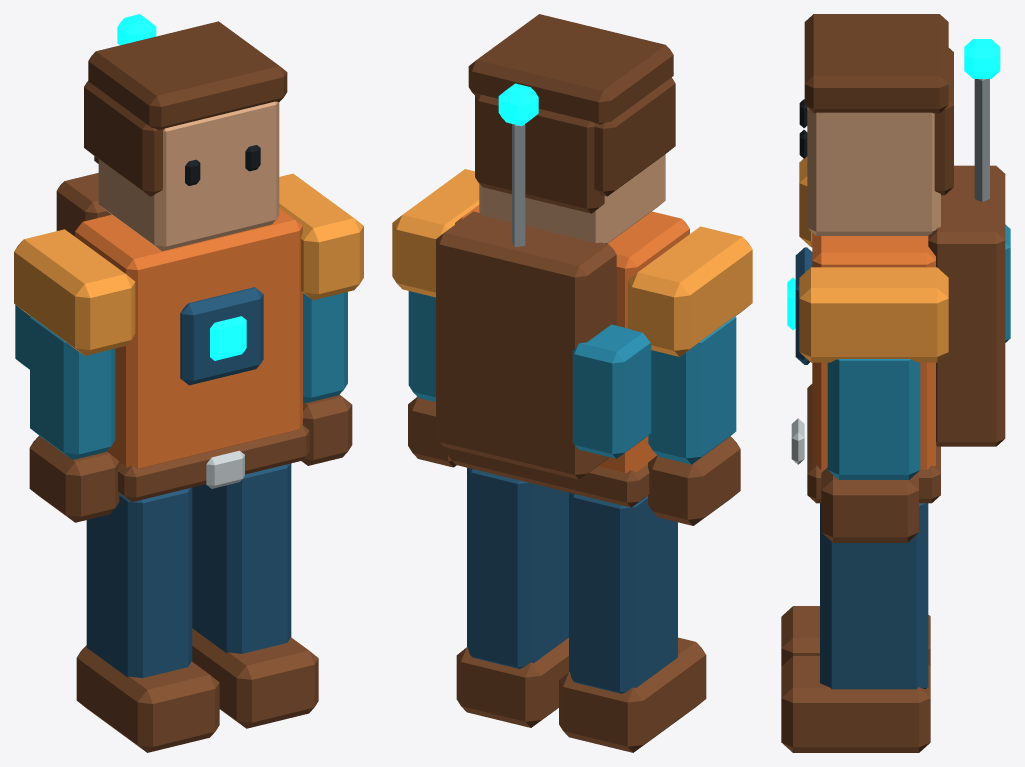
Rendered from voxhaven-explorer.glb.
The picture shows the model from 3 angles, left to right: view 1: azimuth 30°, elevation 25°; view 2: azimuth 150°, elevation 25°; view 3: azimuth 270°, elevation 25°; orthographic projection. The views are drawn at different scales.
Parts seen in each view (by area): view 1: Torso, Leg_-1, Leg_1, Head, HairTop, Shoulder_-1, Boot_-1, Arm_-1, Boot_1, Shoulder_1, ChestPanel, HairLeft (+9 smaller); view 2: Backpack, Leg_-1, Leg_1, HairTop, Shoulder_-1, Arm_-1, HairBack, PackModule, Boot_-1, Boot_1, Head, HairLeft (+8 smaller); view 3: Backpack, Leg_1, Head, HairTop, Shoulder_1, Arm_1, Boot_1, Torso, Glove_1, Boot_-1, HairBack, Antenna (+7 smaller).
Part boxes in pixels (x1=…): Torso: x1=75, y1=208, x2=302, y2=468; Leg_-1: x1=86, y1=487, x2=192, y2=677; Leg_1: x1=192, y1=463, x2=291, y2=653; Head: x1=98, y1=101, x2=279, y2=251; HairTop: x1=88, y1=21, x2=287, y2=129; Shoulder_-1: x1=14, y1=229, x2=135, y2=355; Boot_-1: x1=76, y1=645, x2=219, y2=752; Arm_-1: x1=30, y1=316, x2=115, y2=459; Boot_1: x1=192, y1=628, x2=318, y2=728; Shoulder_1: x1=279, y1=173, x2=363, y2=300; ChestPanel: x1=180, y1=287, x2=263, y2=385; HairLeft: x1=84, y1=81, x2=164, y2=196; Backpack: x1=436, y1=211, x2=616, y2=479; Leg_-1: x1=569, y1=492, x2=677, y2=693; Leg_1: x1=467, y1=467, x2=568, y2=668; HairTop: x1=468, y1=14, x2=673, y2=124; Shoulder_-1: x1=627, y1=226, x2=752, y2=356; Arm_-1: x1=648, y1=316, x2=736, y2=464; HairBack: x1=475, y1=94, x2=604, y2=213; PackModule: x1=572, y1=324, x2=651, y2=458; Boot_-1: x1=559, y1=637, x2=706, y2=752; Boot_1: x1=456, y1=638, x2=568, y2=727; Head: x1=479, y1=154, x2=665, y2=243; HairLeft: x1=594, y1=77, x2=675, y2=196; Backpack: x1=928, y1=165, x2=1005, y2=446; Leg_1: x1=820, y1=503, x2=928, y2=689; Head: x1=807, y1=108, x2=940, y2=235; HairTop: x1=804, y1=14, x2=948, y2=113; Shoulder_1: x1=799, y1=267, x2=948, y2=362; Arm_1: x1=827, y1=359, x2=920, y2=480; Boot_1: x1=781, y1=656, x2=930, y2=752; Torso: x1=812, y1=233, x2=935, y2=470; Glove_1: x1=821, y1=467, x2=918, y2=542; Boot_-1: x1=781, y1=606, x2=930, y2=666; HairBack: x1=934, y1=48, x2=953, y2=195; Antenna: x1=974, y1=79, x2=989, y2=201.
Size of the model in its own units: 1.34 by 2.87 by 0.89.
